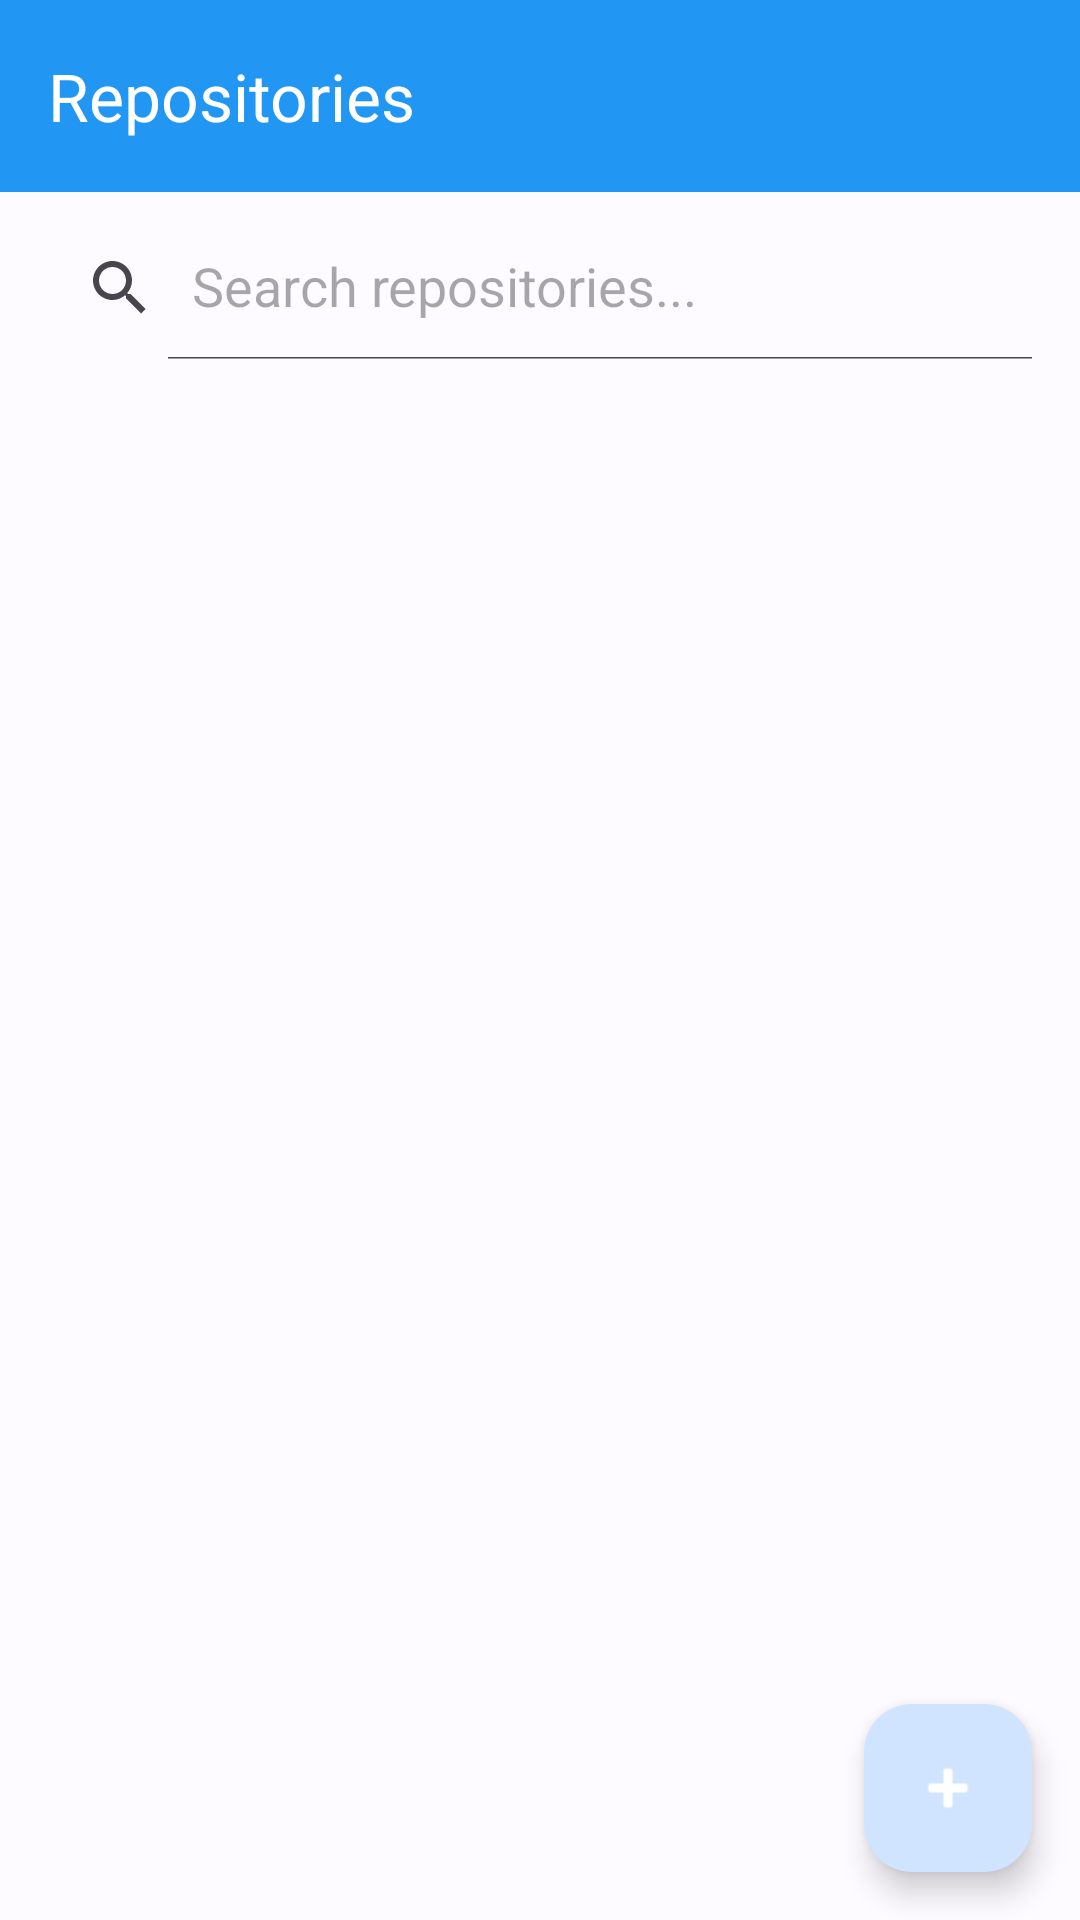

Where to tap for icons on this 1080x1920 app screen, as (x=x, y=y):
Add Repository Link: (x=948, y=1788)
